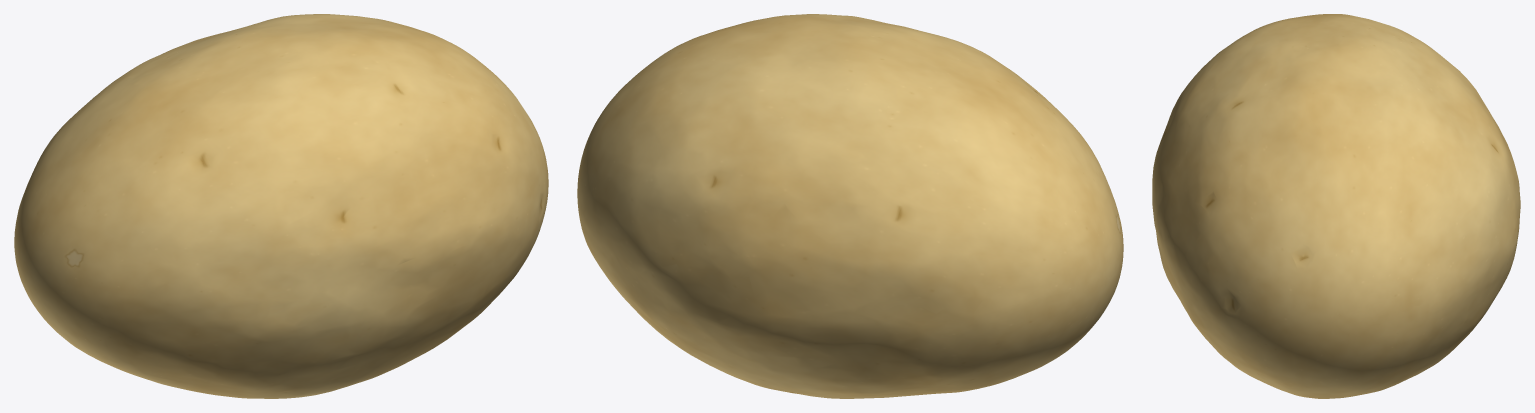
The model's file is aeroponic_potato_lod_medium.glb.
The picture shows the model from 3 angles, left to right: view 1: azimuth 30°, elevation 25°; view 2: azimuth 150°, elevation 25°; view 3: azimuth 270°, elevation 25°; orthographic projection. The views are drawn at different scales.
Parts seen in each view (by area): view 1: Aeroponic_Minituber_LOD_Medium; view 2: Aeroponic_Minituber_LOD_Medium; view 3: Aeroponic_Minituber_LOD_Medium.
Boxes of the visible parts, bbox=[...] form: Aeroponic_Minituber_LOD_Medium: bbox=[14, 14, 548, 398]; Aeroponic_Minituber_LOD_Medium: bbox=[577, 14, 1123, 398]; Aeroponic_Minituber_LOD_Medium: bbox=[1152, 14, 1520, 398].
Size of the model in its own units: 0.0438 by 0.0283 by 0.0305.
Materials: 1 (1 with a texture image).
